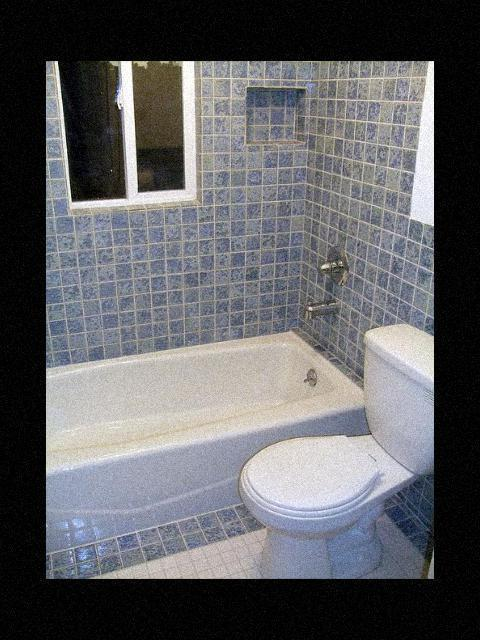Sanitario: (238, 320, 434, 578)
